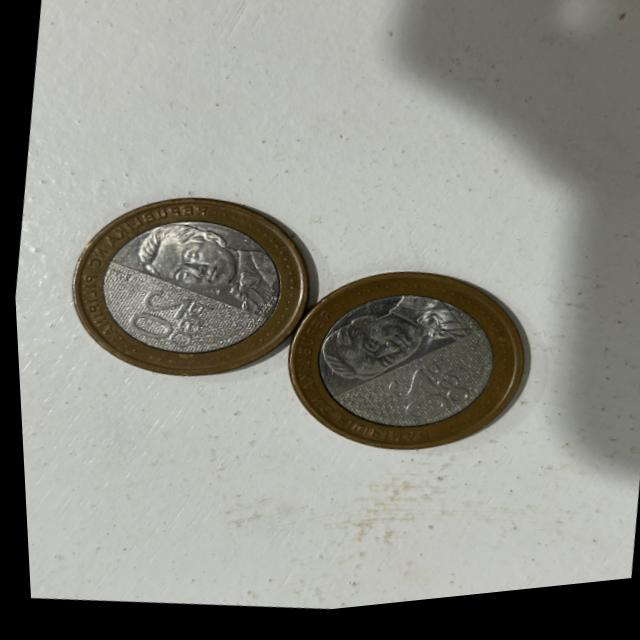20_New_Front: (366, 351, 480, 444), (118, 287, 224, 358)
